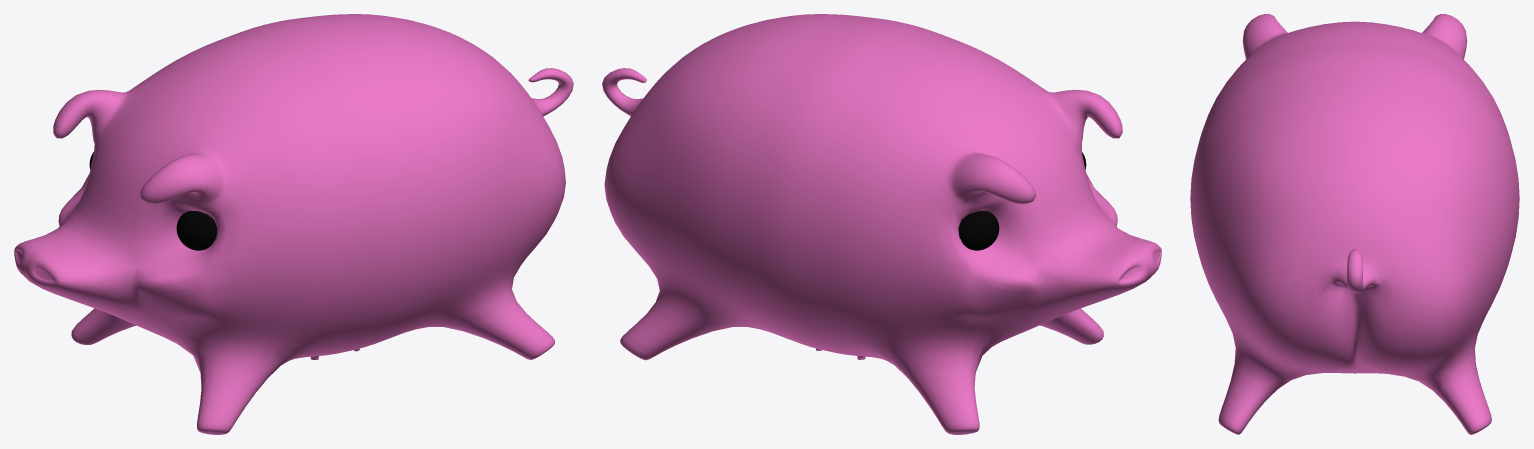
Rendered from gris_animation.glb.
3 views of the same model, side by side, from view 1: azimuth 30°, elevation 25°; view 2: azimuth 150°, elevation 25°; view 3: azimuth 270°, elevation 25° (orthographic). The views are drawn at different scales.
Visible parts, largest first — view 1: Cube; view 2: Cube; view 3: Cube.
Boxes of the visible parts, x1,y1,x2,y2 form: Cube: (14, 14, 573, 434); Cube: (602, 14, 1161, 434); Cube: (1190, 14, 1519, 434).
Size of the model in its own units: 3.13 by 1.72 by 1.69.
